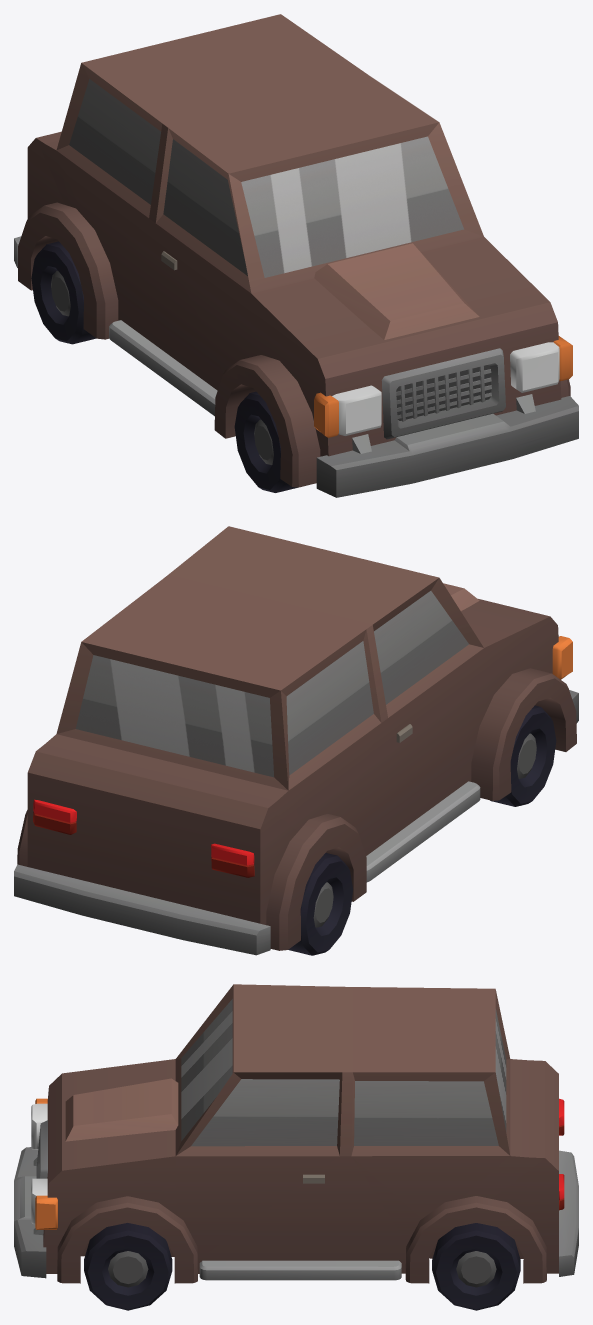
Rendered from Car_3_12.fbx.
The picture shows the model from 3 angles, top to bottom: view 1: azimuth 30°, elevation 25°; view 2: azimuth 150°, elevation 25°; view 3: azimuth 270°, elevation 25°; orthographic projection. The views are drawn at different scales.
Visible parts, largest first — view 1: Car_3_12, Wheel_Br, Wheel_Fr; view 2: Car_3_12, Wheel_Br, Wheel_Fr; view 3: Car_3_12, Wheel_Bl, Wheel_Fl.
Boxes of the visible parts, x1,y1,x2,y2 form: Car_3_12: (14,14,578,497); Wheel_Br: (31,241,96,344); Wheel_Fr: (234,391,297,492); Car_3_12: (14,526,578,955); Wheel_Br: (288,853,353,955); Wheel_Fr: (490,705,556,806); Car_3_12: (14,984,578,1283); Wheel_Bl: (432,1223,520,1310); Wheel_Fl: (84,1223,172,1310).
Size of the model in its own units: 1.13 by 1.02 by 2.3.
